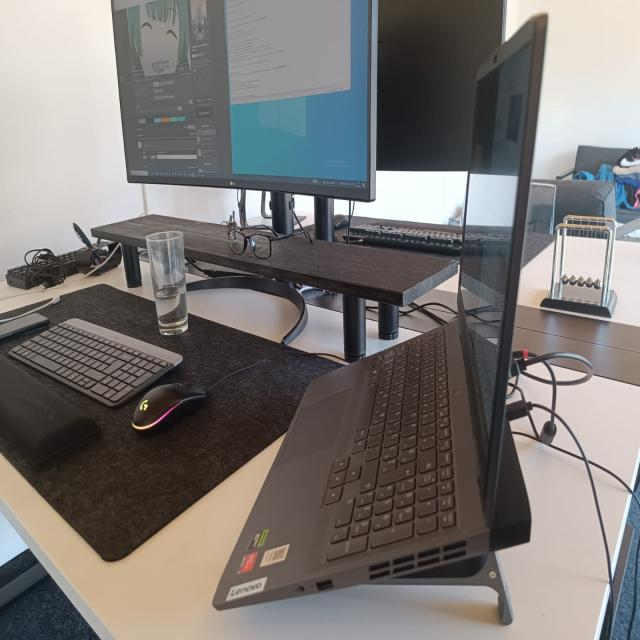Laptops_bbox: (157, 17, 633, 640)
